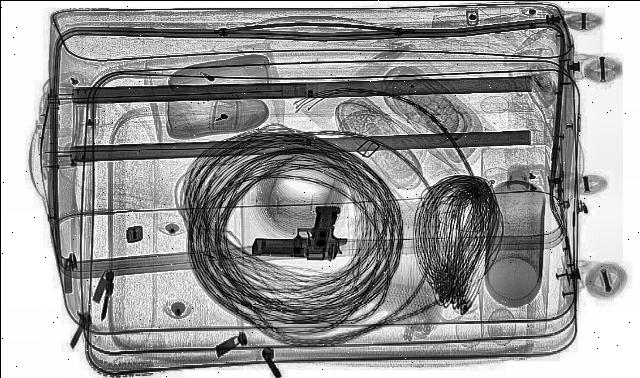Gun: (243, 202, 354, 262)
